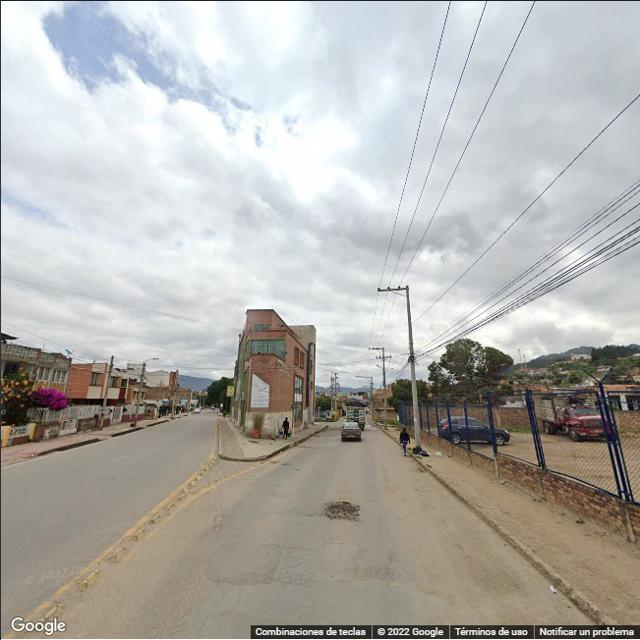D00: (222, 580, 242, 612), (189, 609, 211, 637)
D20: (274, 552, 321, 589)
D40: (322, 496, 371, 522)
